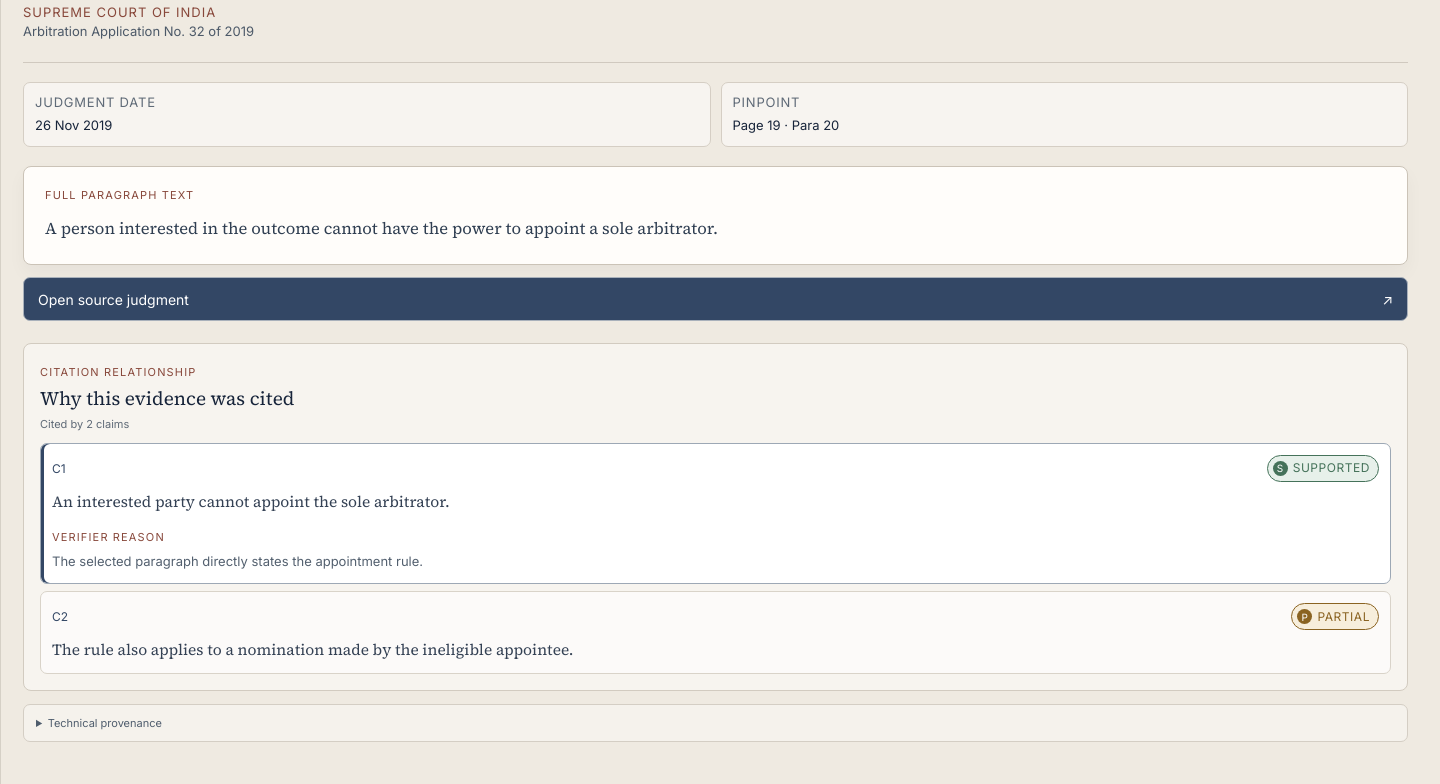
Test case: EvidencePanel evidence-first hierarchy › keeps complete technical provenance collapsed until explicitly opened
(page scrolled)
expect the text "Technical provenance" is shown: met, box [23,704,1408,742]
expect the text "perkins-para-20" is not shown: met
Click the heading "Technical provenance".
click(105, 723)  # box [48,716,162,730]
(page scrolled)
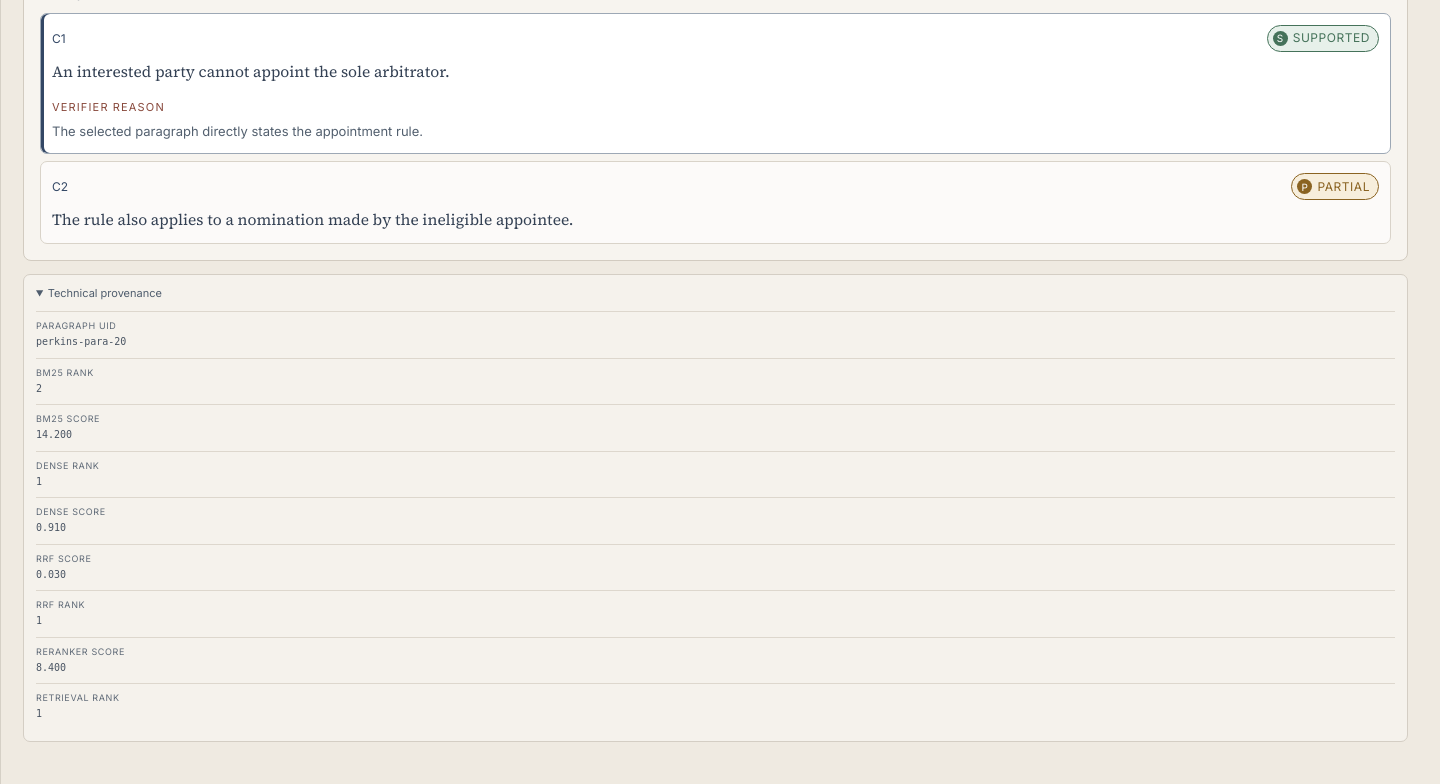
expect the text "Paragraph UID" is shown: met, box [36,320,116,331]
expect the text "BM25 rank" is shown: met, box [36,367,94,378]
expect the text "BM25 score" is shown: met, box [36,413,100,424]
